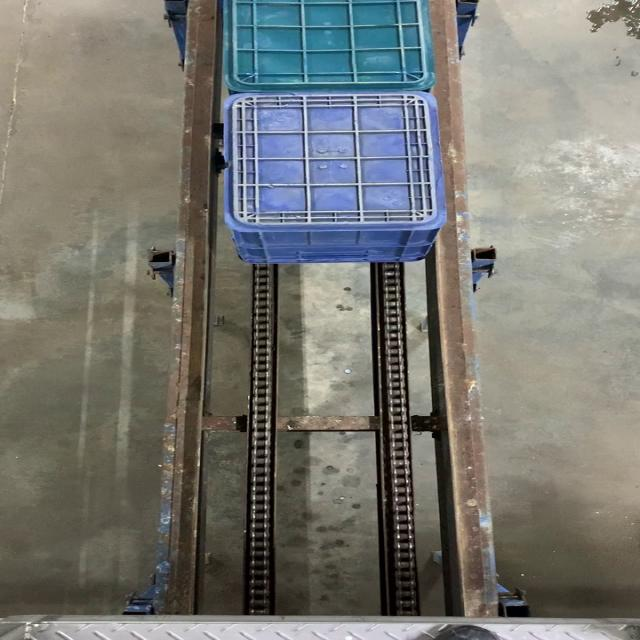Box: (229, 93, 443, 227)
